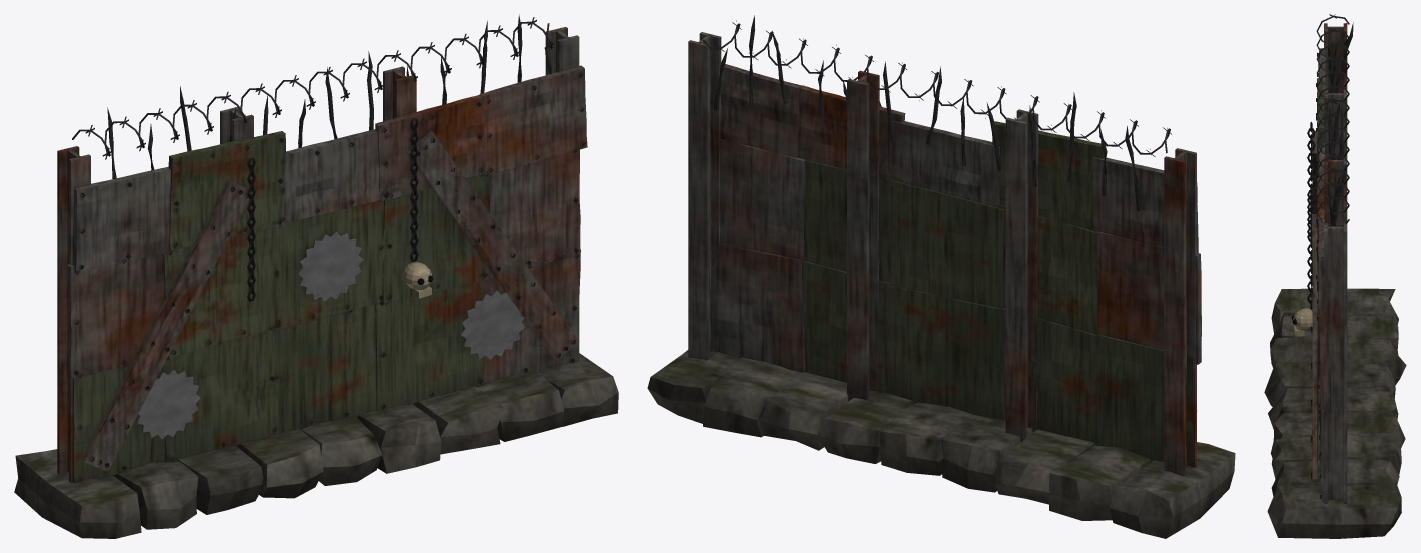
File: iron_wall.glb
3 views of the same model, side by side, from view 1: azimuth 30°, elevation 25°; view 2: azimuth 150°, elevation 25°; view 3: azimuth 270°, elevation 25° (orthographic). The views are drawn at different scales.
Parts seen in each view (by area): view 1: Lv1, Lv2, Lv3; view 2: Lv1, Lv2, Lv3; view 3: Lv1, Lv3, Lv2.
Boxes of the visible parts, left/top/right/bottom form: Lv1: left=14, top=27, right=618, bottom=538; Lv2: left=81, top=14, right=579, bottom=471; Lv3: left=72, top=17, right=553, bottom=439; Lv1: left=647, top=32, right=1235, bottom=538; Lv2: left=714, top=15, right=1141, bottom=211; Lv3: left=702, top=20, right=1171, bottom=156; Lv1: left=1264, top=23, right=1406, bottom=538; Lv3: left=1291, top=14, right=1349, bottom=336; Lv2: left=1311, top=22, right=1353, bottom=482.
Size of the model in its own units: 4.36 by 3.1 by 1.17.
Materials: 1 (1 with a texture image).
